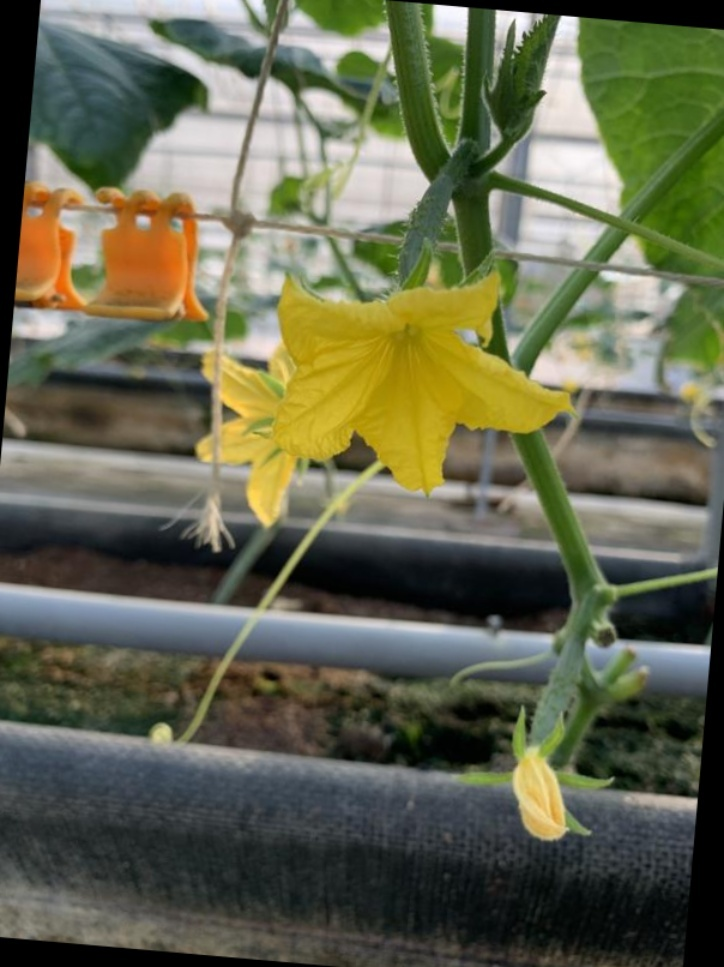flowering: (266, 162, 570, 501)
